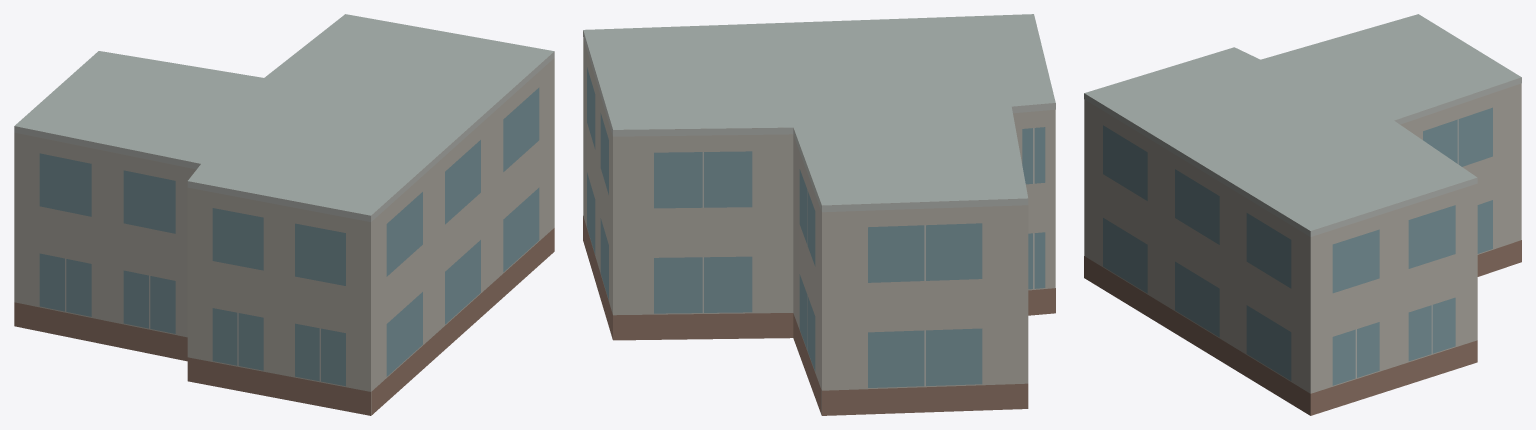
Rendered from survey-upis-32625506.glb.
The picture shows the model from 3 angles, left to right: view 1: azimuth 30°, elevation 25°; view 2: azimuth 150°, elevation 25°; view 3: azimuth 270°, elevation 25°; orthographic projection. The views are drawn at different scales.
Visible parts, largest first — view 1: survey-upis-32625506.tmp; view 2: survey-upis-32625506.tmp; view 3: survey-upis-32625506.tmp.
Part boxes in pixels (left/top/right/bottom): survey-upis-32625506.tmp: left=14, top=14, right=554, bottom=415; survey-upis-32625506.tmp: left=583, top=14, right=1055, bottom=415; survey-upis-32625506.tmp: left=1084, top=14, right=1521, bottom=415.
Size of the model in its own units: 18.9 by 7.5 by 16.11.
